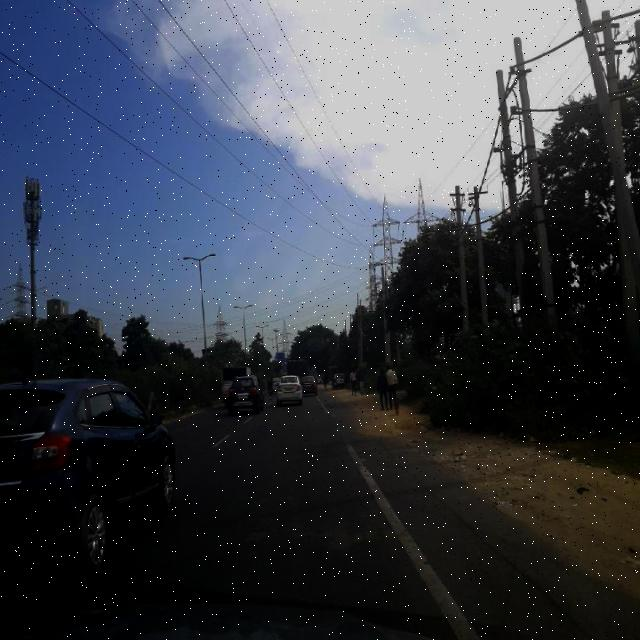D20: (204, 460, 420, 626)
